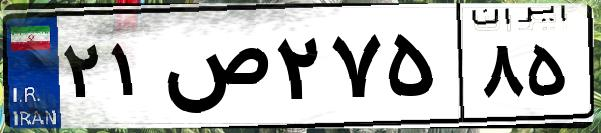1: (110, 28, 158, 98)
2: (270, 28, 330, 110), (57, 26, 110, 100)
5: (385, 28, 445, 110), (525, 38, 570, 115)
7: (330, 28, 385, 110)
8: (475, 38, 525, 113)
ص: (158, 20, 270, 120)
